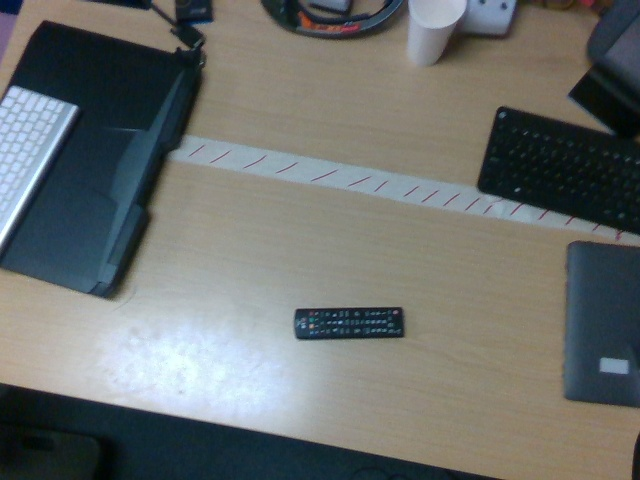remote: (294, 306, 406, 341)
